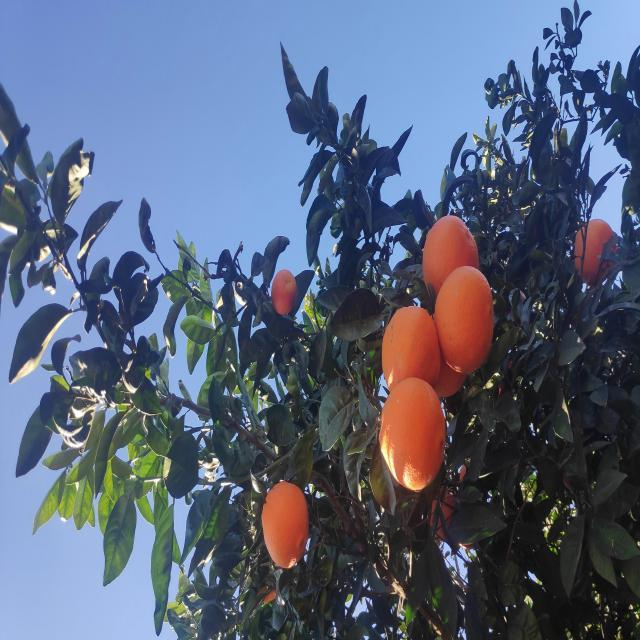Jeruk Sudah Matang: (152, 378, 254, 446), (273, 436, 377, 496), (242, 383, 336, 439), (337, 422, 426, 480), (74, 262, 156, 308), (357, 574, 426, 616), (328, 271, 373, 297), (238, 434, 278, 459)
